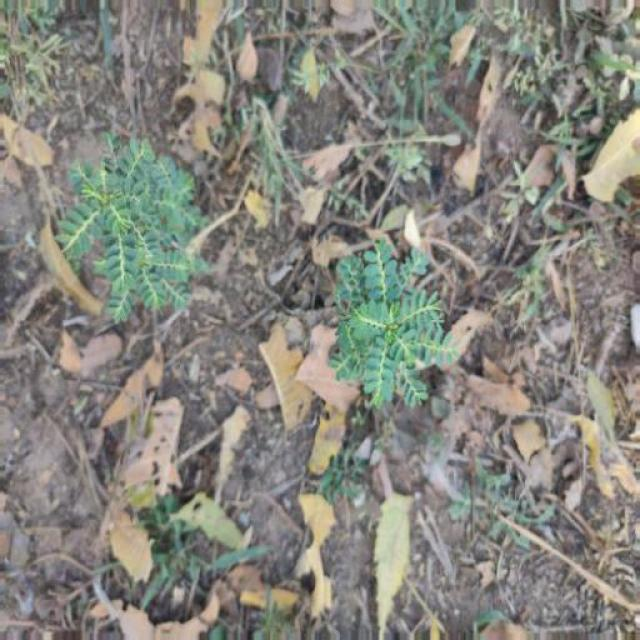weed: (72, 134, 202, 312), (334, 233, 446, 412)
